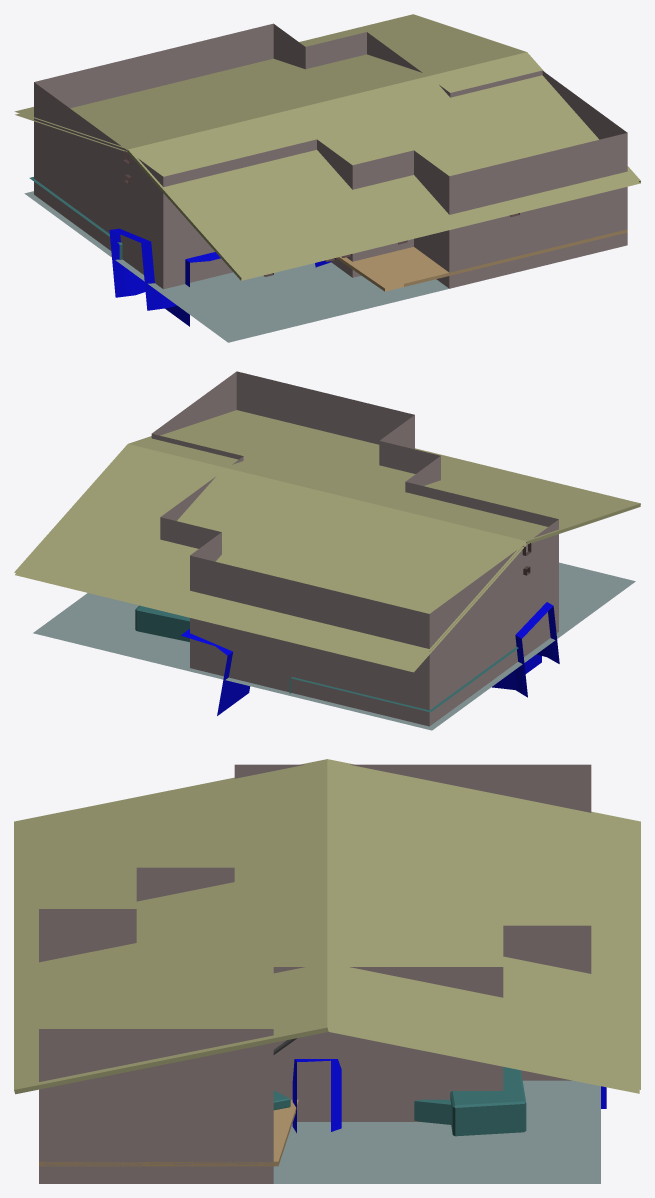
The model's file is NIVEL_1.fbx.
The picture shows the model from 3 angles, top to bottom: view 1: azimuth 30°, elevation 25°; view 2: azimuth 150°, elevation 25°; view 3: azimuth 270°, elevation 25°; orthographic projection. The views are drawn at different scales.
Visible parts, largest first — view 1: NIVEL_TUTO; view 2: NIVEL_TUTO; view 3: NIVEL_TUTO.
Part boxes in pixels (x1=…): NIVEL_TUTO: x1=14, y1=14, x2=640, y2=342; NIVEL_TUTO: x1=14, y1=371, x2=640, y2=730; NIVEL_TUTO: x1=14, y1=759, x2=640, y2=1183.
Bounding box in the file's own units: 13.21 × 4.83 × 12.83.
